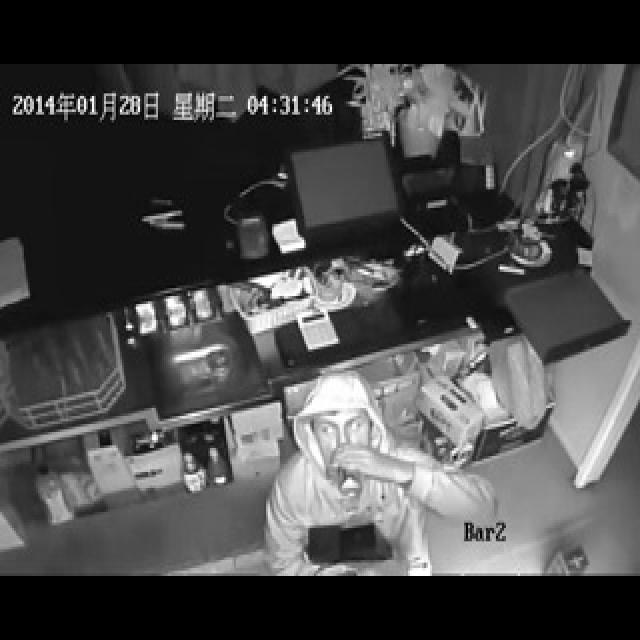thief: (251, 382, 449, 578)
